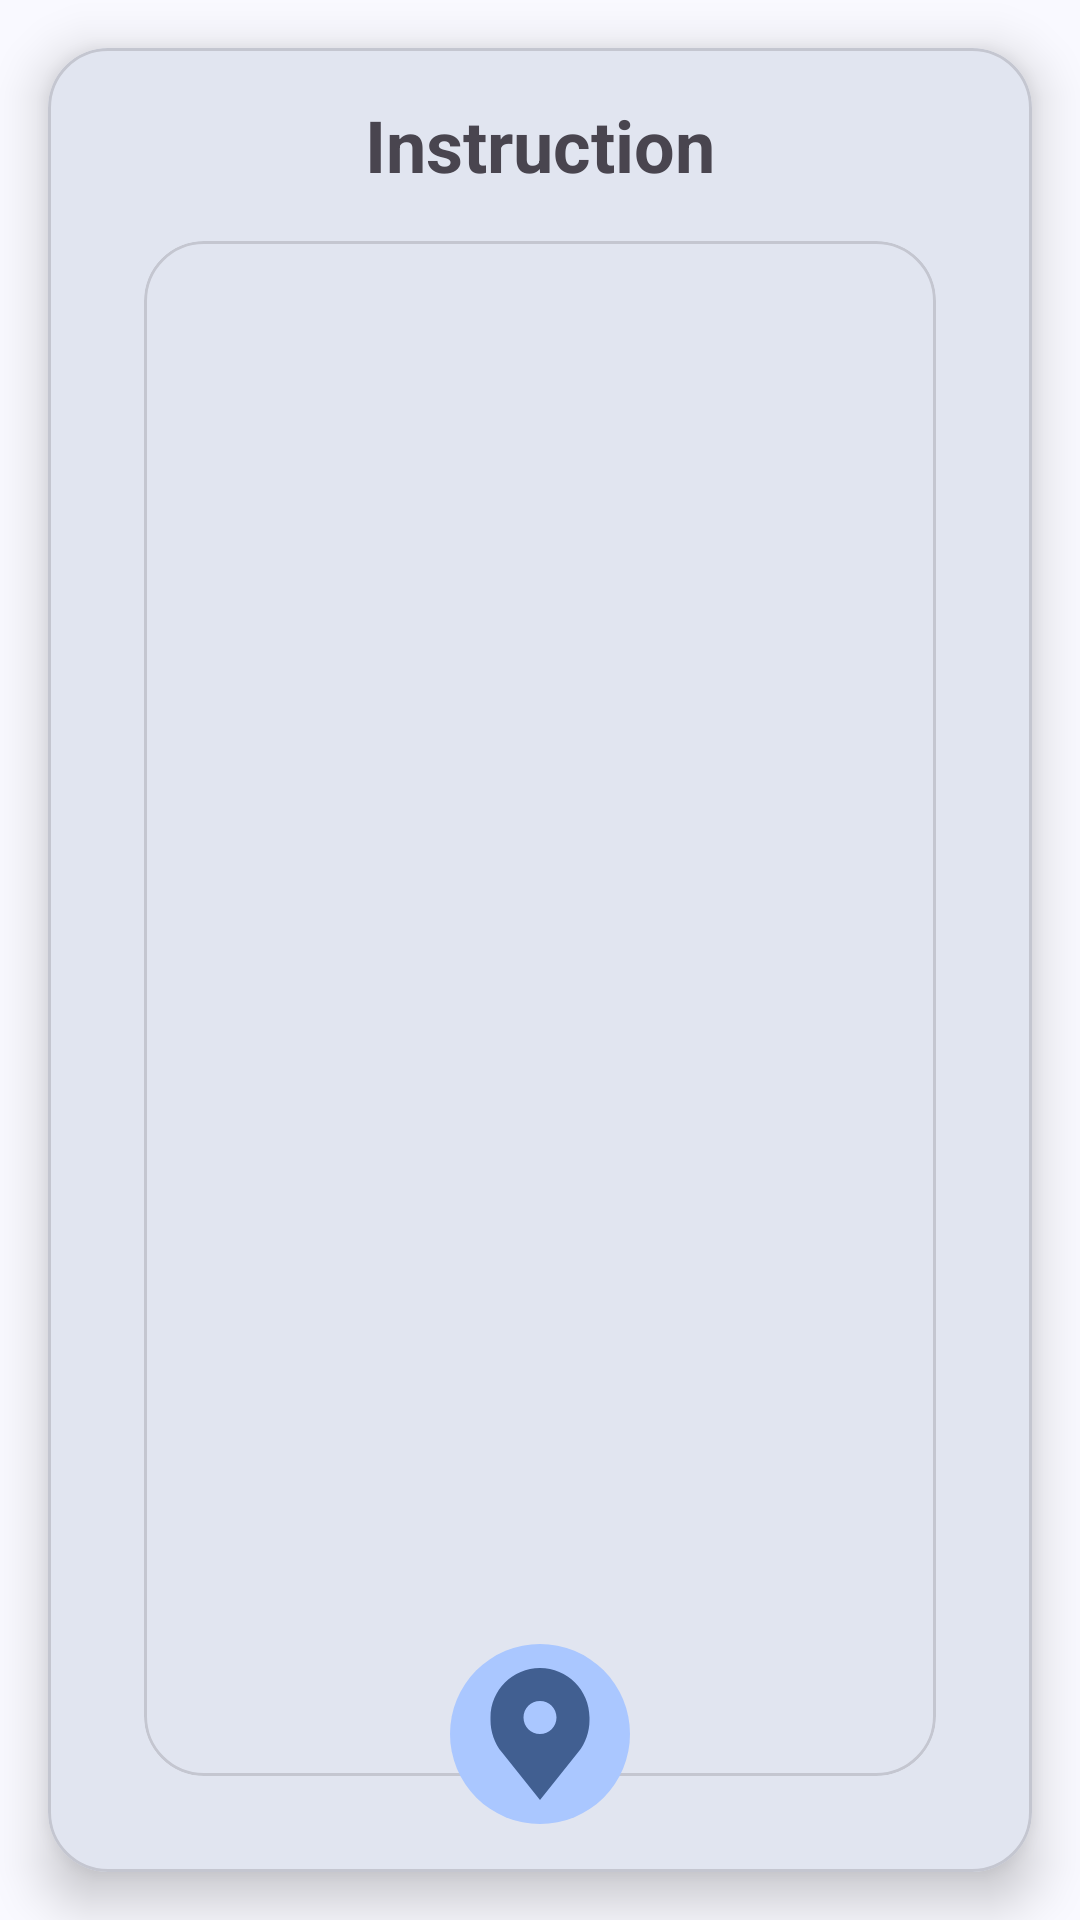

Locate icon controls on the screen. Image size 1080×1920, boxes as (x1, y1, x2, y2).
map pin: (450, 1644, 630, 1824)
